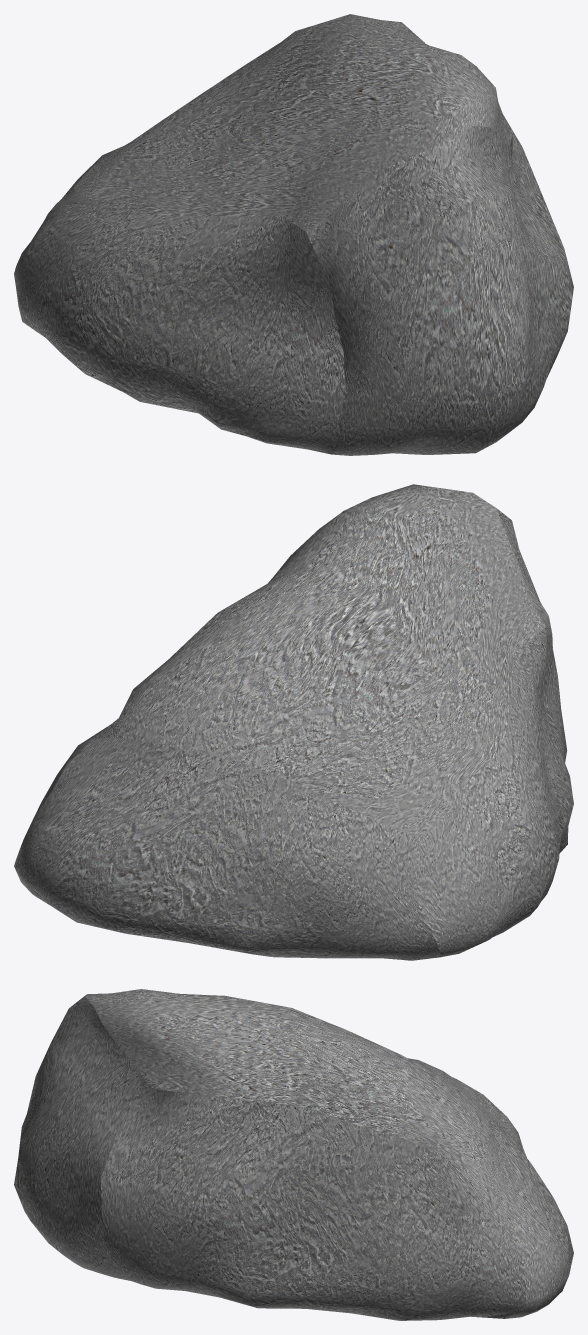
The model's file is MossRock4.FBX.
The picture shows the model from 3 angles, top to bottom: view 1: azimuth 30°, elevation 25°; view 2: azimuth 150°, elevation 25°; view 3: azimuth 270°, elevation 25°; orthographic projection. The views are drawn at different scales.
Parts seen in each view (by area): view 1: MossRock4; view 2: MossRock4; view 3: MossRock4.
Part boxes in pixels (x1=…): MossRock4: x1=14, y1=14, x2=573, y2=455; MossRock4: x1=14, y1=484, x2=573, y2=960; MossRock4: x1=14, y1=989, x2=573, y2=1320.
Size of the model in its own units: 120 by 84.4 by 153.
